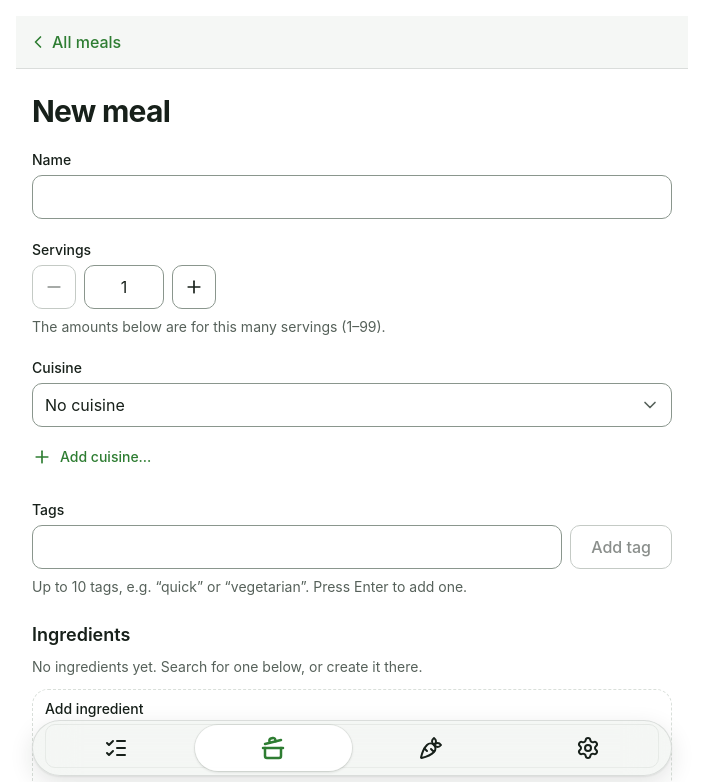
Test case: DetailStrip › leads from the meal form, a new meal to its parent, above the title
Step 1. Click the link with test id "back-link" → (75, 42), box top-left (28, 32), bottom-right (121, 52)
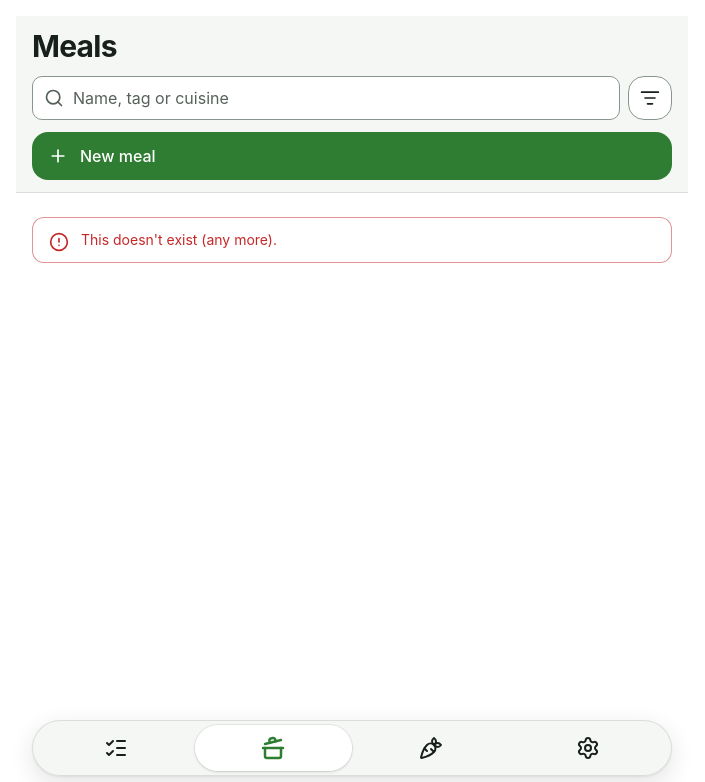
Check: the element with test id "screen-meals" is shown, box top-left (32, 16), bottom-right (672, 263)
